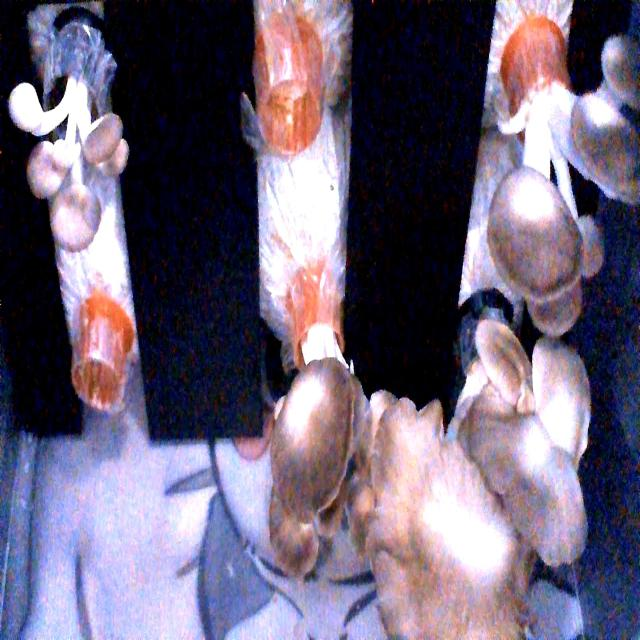big: (393, 284, 601, 637), (476, 13, 640, 343), (236, 286, 384, 588)
nfound: (248, 40, 332, 167), (65, 305, 136, 429)
small: (3, 43, 148, 241)
